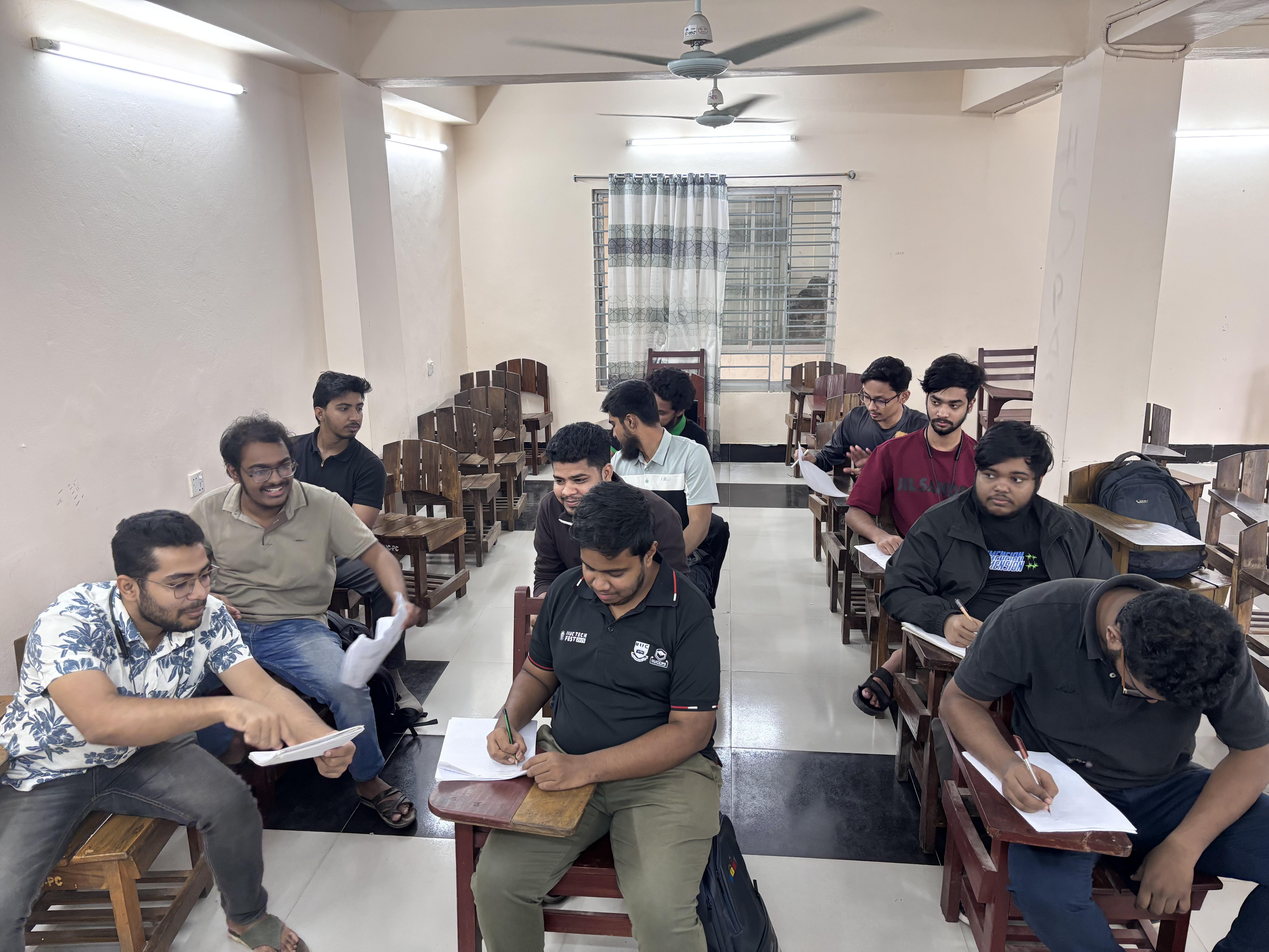copying: (298, 356, 411, 505)
no_cheating: (449, 506, 723, 881)
side_talking: (587, 375, 724, 502), (511, 417, 628, 537)
suspicious_moving: (4, 502, 346, 838), (949, 549, 1256, 907), (178, 416, 414, 681), (901, 428, 1081, 680), (853, 357, 1022, 583), (769, 345, 901, 515)
